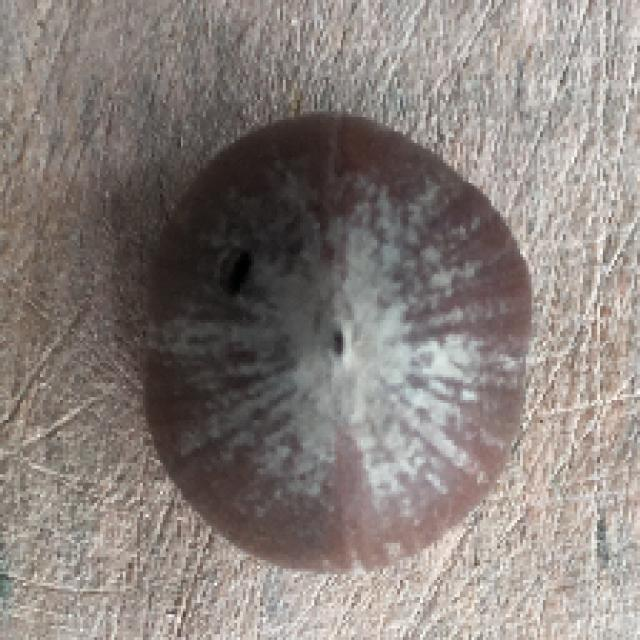damagedHazelnut: (135, 102, 534, 578)
